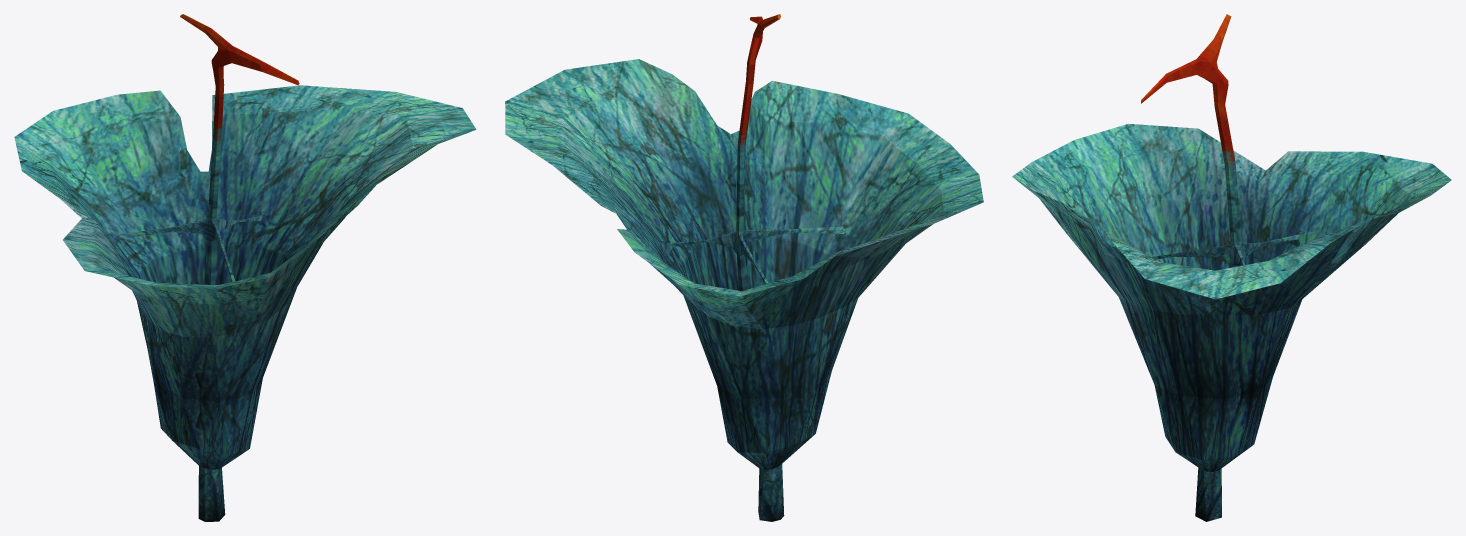
The model's file is eaw_feluciaPlantB.glb.
The picture shows the model from 3 angles, left to right: view 1: azimuth 30°, elevation 25°; view 2: azimuth 150°, elevation 25°; view 3: azimuth 270°, elevation 25°; orthographic projection. The views are drawn at different scales.
Visible parts, largest first — view 1: plant01_0; view 2: plant01_0; view 3: plant01_0.
Part boxes in pixels (box(x1,y1,x2,y2)): plant01_0: box(14, 14, 476, 521); plant01_0: box(505, 14, 983, 521); plant01_0: box(1012, 14, 1451, 521).
Size of the model in its own units: 5.24 by 5.93 by 4.8.
1 material, 1 textured.
